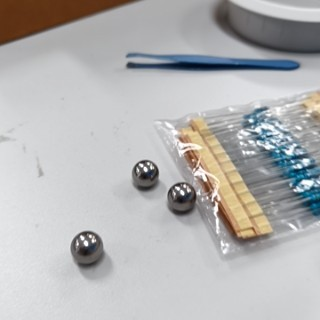ironball: (114, 144, 162, 205), (64, 217, 110, 274), (159, 173, 204, 224)
